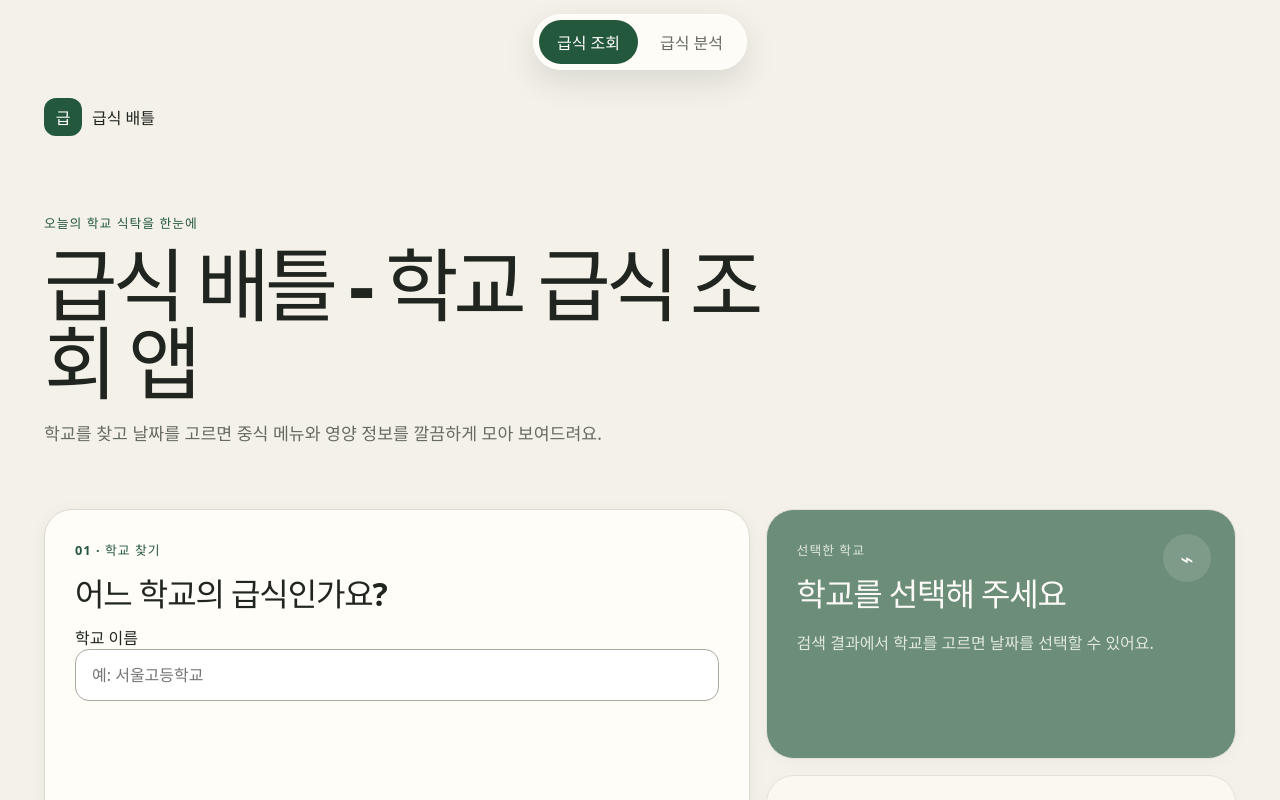
Test: school lunch flow › retries a failed school search
The width and height of the screenshot is (1280, 800).
Type "서울" into the field labelled "학교 이름". click: (397, 675)
box: [75, 649, 719, 701]
(page scrolled)
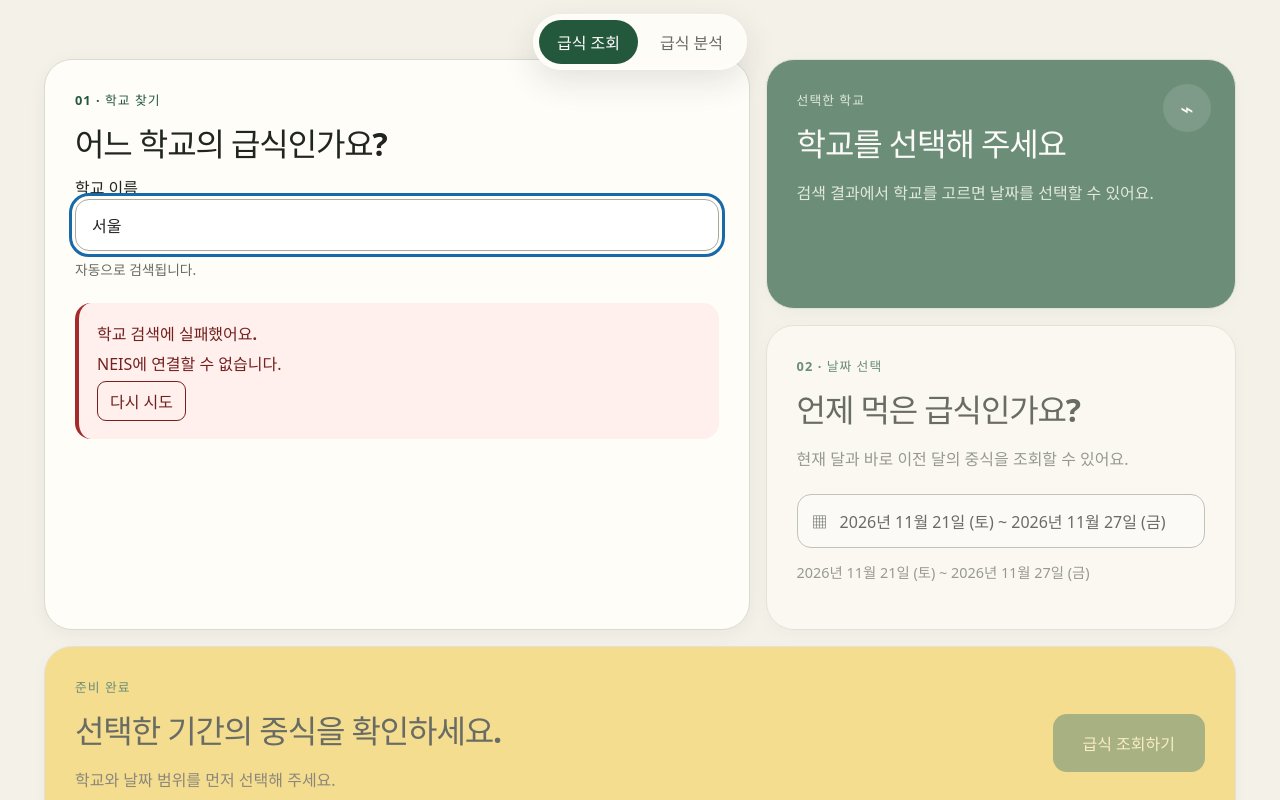
Now the text "학교 검색에 실패했어요." is shown, box [97, 323, 257, 345]
Click the button "다시 시도". click: (142, 401)
box: [97, 381, 186, 421]
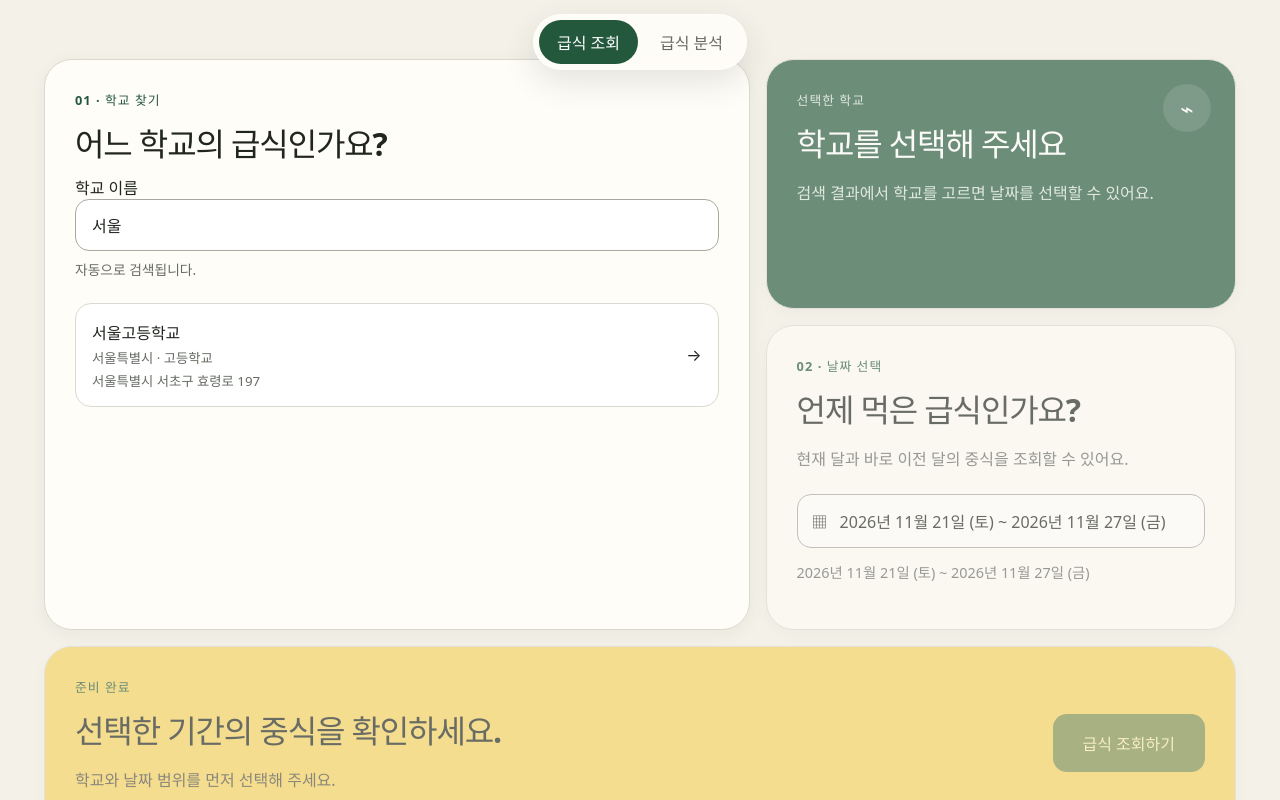
Now the button "서울고등학교 서울특별시 · 고등학교 서울특별시 서초구 효령로 197 →" is shown, box [75, 303, 719, 407]
